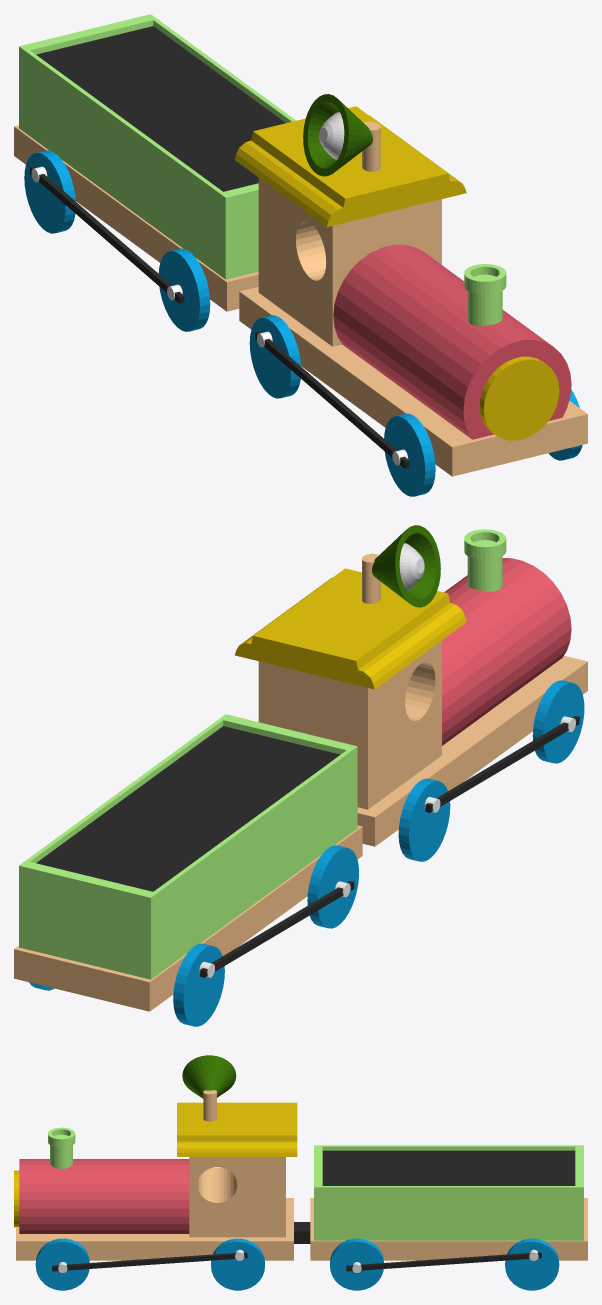
The model's file is trem.fbx.
3 renders of one model, top to bottom at view 1: azimuth 30°, elevation 25°; view 2: azimuth 150°, elevation 25°; view 3: azimuth 270°, elevation 25°, orthographic. The views are drawn at different scales.
Visible parts, largest first — view 1: Cube.001, Cylinder.016; view 2: Cube.001, Cylinder.016; view 3: Cube.001, Cylinder.016.
Boxes of the visible parts, <box> form: Cube.001: <box>14,14,587,496</box>; Cylinder.016: <box>303,94,372,176</box>; Cube.001: <box>14,529,587,1026</box>; Cylinder.016: <box>372,525,440,607</box>; Cube.001: <box>14,1090,587,1290</box>; Cylinder.016: <box>182,1055,236,1098</box>.
Size of the model in its own units: 221 by 364 by 955.
